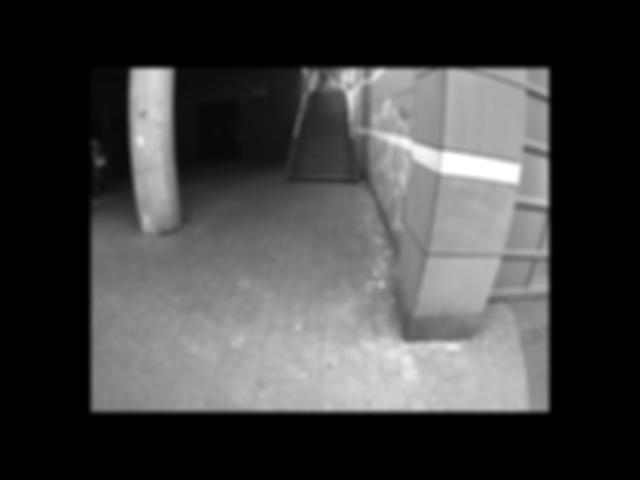Escaleras: (288, 92, 360, 182)
